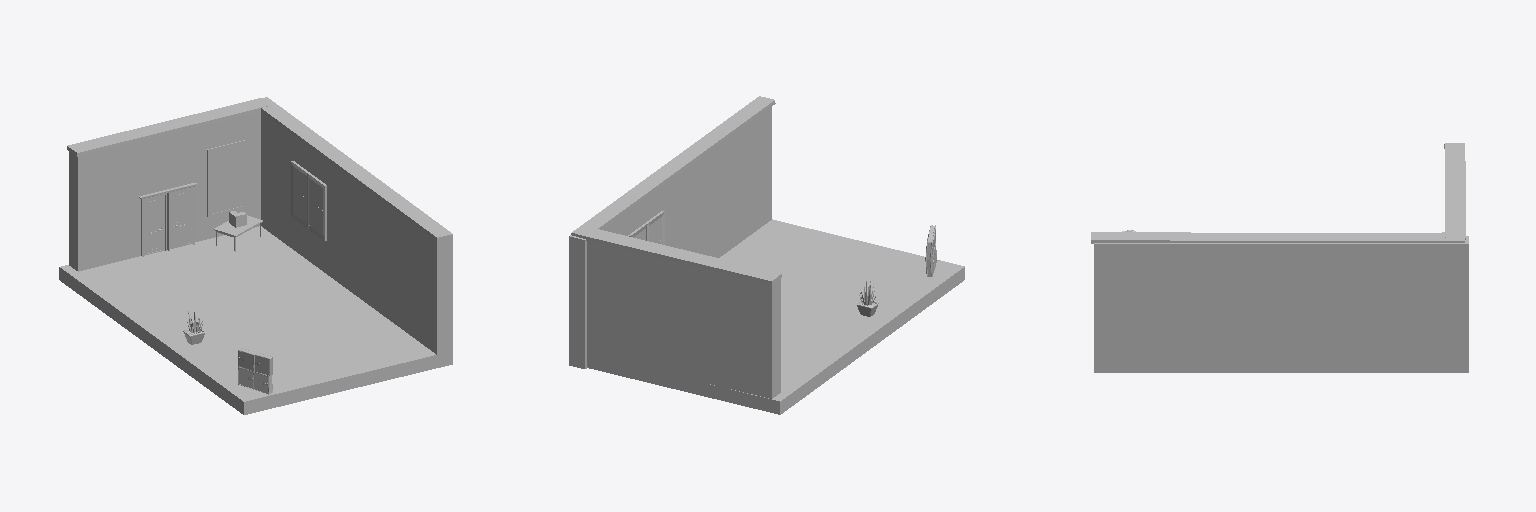
File: casa de lidia cambio de camara.obj
3 renders of one model, left to right at view 1: azimuth 30°, elevation 25°; view 2: azimuth 150°, elevation 25°; view 3: azimuth 270°, elevation 25°, orthographic.
Visible parts, largest first — view 1: Cubo, Cubo.002, Cubo.004, Cubo.008, Cubo.007, model.002, Door2, Door2.001, Cube.013_Cube.001, Cube.013_Cube.017; view 2: Cubo.004, Cubo, Cubo.002, Cubo.008, Cubo.007; view 3: Cubo.002, Cubo.008, Cubo.007.
Part boxes in pixels (bbox=[...]): Cubo: bbox=[59, 226, 436, 414]; Cubo.002: bbox=[261, 112, 452, 367]; Cubo.004: bbox=[69, 112, 260, 271]; Cubo.008: bbox=[261, 97, 452, 241]; Cubo.007: bbox=[67, 98, 270, 156]; model.002: bbox=[207, 140, 244, 216]; Door2: bbox=[166, 183, 196, 250]; Door2.001: bbox=[139, 190, 166, 256]; Cube.013_Cube.001: bbox=[307, 172, 326, 240]; Cube.013_Cube.017: bbox=[291, 161, 309, 229]; Cubo.004: bbox=[587, 241, 780, 398]; Cubo: bbox=[588, 219, 964, 414]; Cubo.002: bbox=[569, 107, 771, 368]; Cubo.008: bbox=[571, 96, 775, 236]; Cubo.007: bbox=[577, 227, 781, 284]; Cubo.002: bbox=[1094, 236, 1468, 372]; Cubo.008: bbox=[1091, 232, 1464, 243]; Cubo.007: bbox=[1444, 143, 1465, 239].
Bounding box in the file's own units: 9.01 × 5.45 × 14.08.